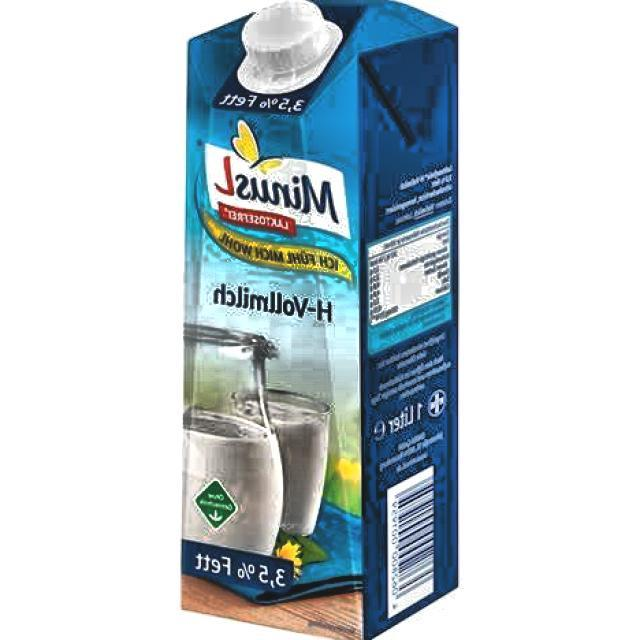cardboard: (180, 0, 460, 640)
